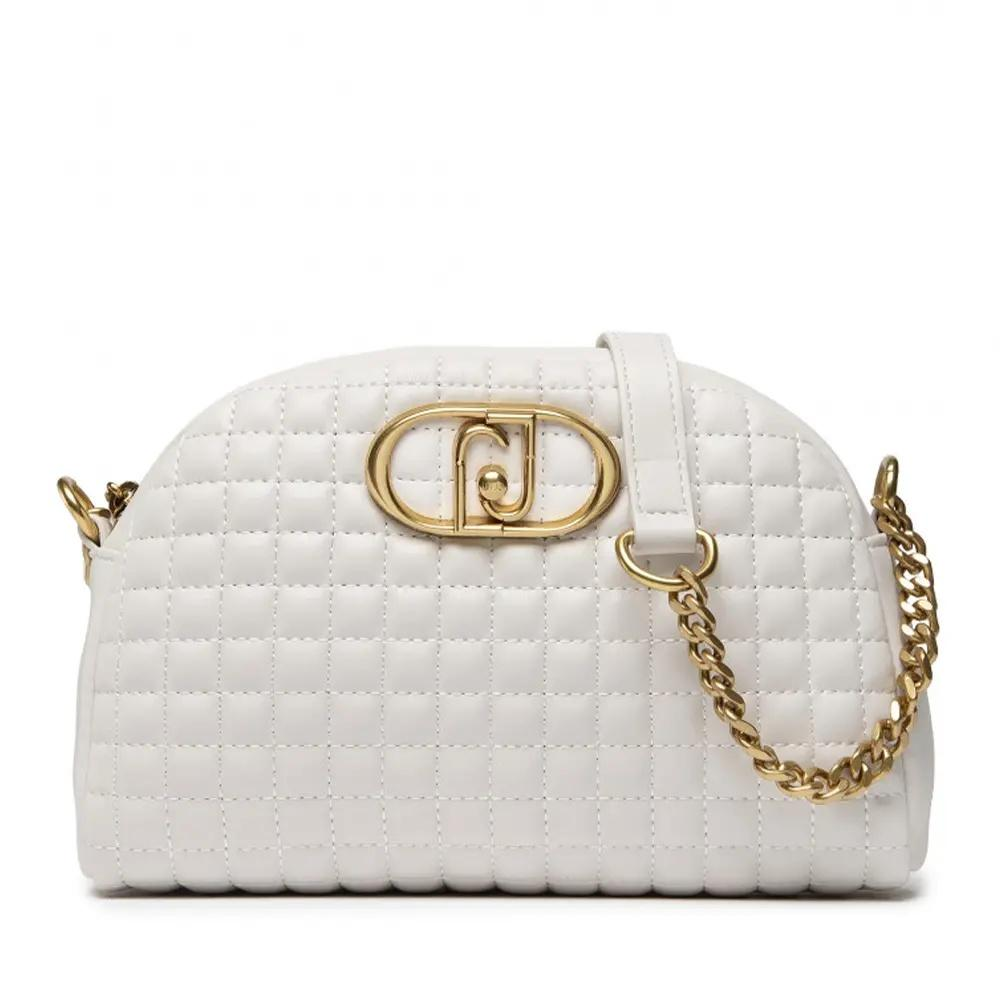LIU-JO: (452, 404, 536, 537)
